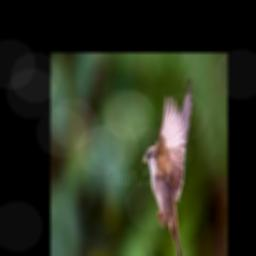Sparrow: (142, 77, 193, 256)
